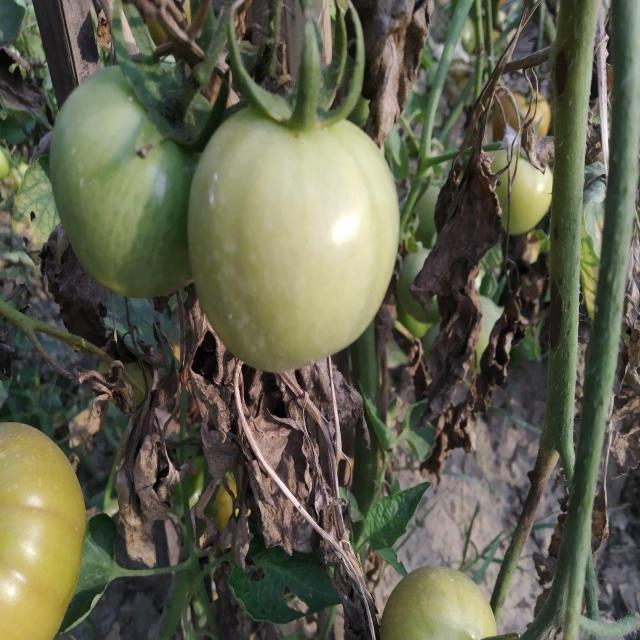Unripe: (186, 90, 400, 372), (49, 62, 197, 294)
